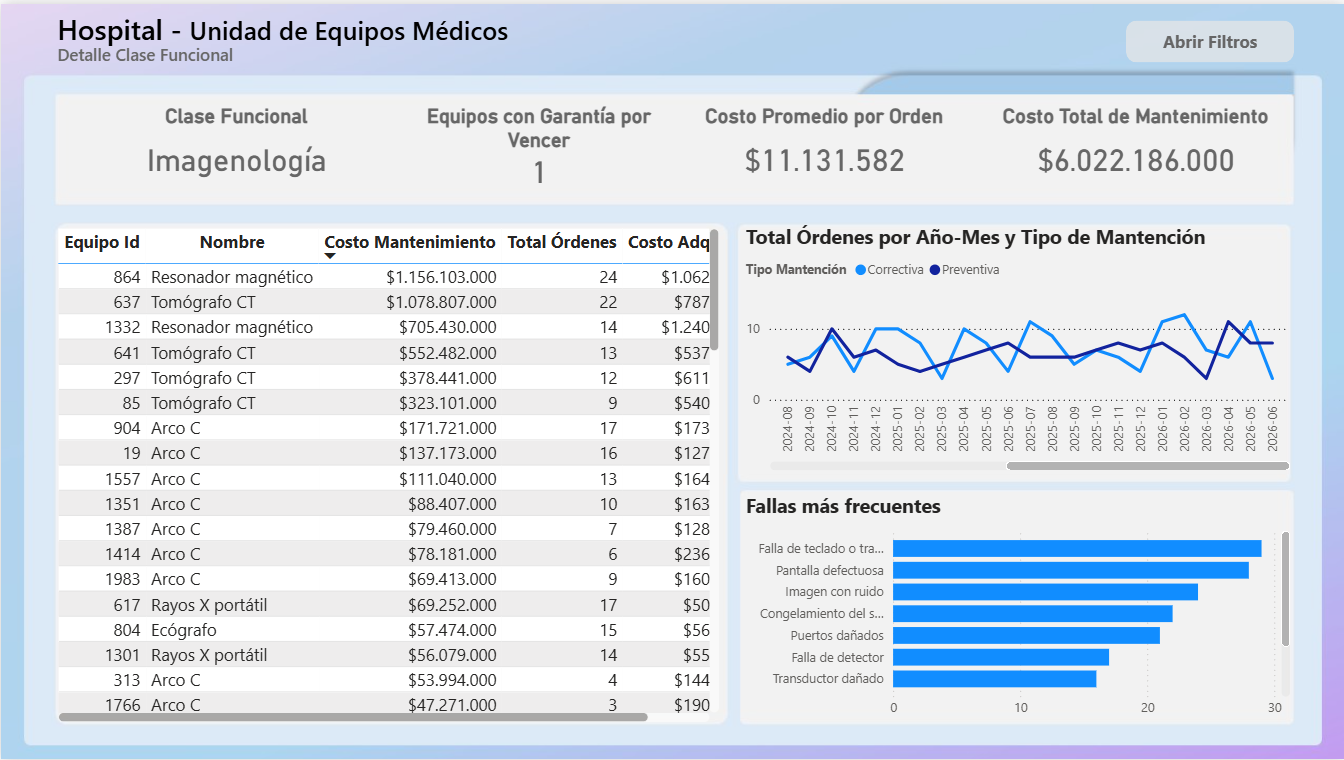

What the dashboard file says about the page in this screenshot:
{"tool":"powerbi","page":{"name":"Detalle Clase Funcional","canvas":[1280,720],"ordinal":3},"visuals":[{"type":"actionButton","title":"Open","box":[1072,16,160,40],"z":1000,"group":"g1"},{"type":"tableEx","fields":{"Values":["dim_equipo.equipo_id","dim_equipo.nombre_equipo","_Medidas.Costo Total Mantenimiento","_Medidas.Total Órdenes","_Medidas.Costo Total Adquisición"]},"box":[48,208,640,480],"z":1000},{"type":"lineChart","title":"Total Órdenes por Año-Mes y Tipo de Mantención","fields":{"Category":["dim_fecha.anio_mes"],"Series":["dim_tipo_mantenimiento.nombre_tipo"],"Y":["_Medidas.Total Órdenes"]},"box":[704,208,528,240],"z":2000},{"type":"card","title":"Costo Total de Mantenimiento","fields":{"Values":["_Medidas.Costo Total Mantenimiento"]},"box":[928,96,304,80],"z":3000},{"type":"card","title":"Equipos con Garantía por Vencer","fields":{"Values":["_Medidas.Equipos Garantía por Vencer"]},"box":[384,96,256,80],"z":4000},{"type":"clusteredBarChart","title":"Fallas más frecuentes","fields":{"Category":["fact_ordenes_trabajo.falla_reportada"],"Y":["_Medidas.Total Órdenes"]},"box":[704,464,528,224],"z":5000},{"type":"card","title":"Clase Funcional","fields":{"Values":["Min(dim_equipo.clase_funcional)"]},"box":[64,96,320,80],"z":6000},{"type":"textbox","box":[48,0,448,48],"z":7000},{"type":"textbox","box":[48,32,304,32],"z":8000},{"type":"card","title":"Costo Promedio por Orden","fields":{"Values":["_Medidas.Costo Promedio por Orden"]},"box":[640,96,288,80],"z":9000},{"type":"group","id":"g1","title":"Buttons","box":[1072,16,160,40],"z":11000}]}

Visuals, with their boxes in screenshot pixels (x1, y1, x2, y2), scaled from the page's 1280x720 canvas onto the 1344x760 screenshot:
"Open" actionButton: <bbox>1126, 17, 1294, 59</bbox>
tableEx - dim_equipo.equipo_id x dim_equipo.nombre_equipo: <bbox>50, 220, 722, 726</bbox>
"Total Órdenes por Año-Mes y Tipo de Mantención" lineChart: <bbox>739, 220, 1294, 473</bbox>
"Costo Total de Mantenimiento" card: <bbox>974, 101, 1294, 186</bbox>
"Equipos con Garantía por Vencer" card: <bbox>403, 101, 672, 186</bbox>
"Fallas más frecuentes" clusteredBarChart: <bbox>739, 490, 1294, 726</bbox>
"Clase Funcional" card: <bbox>67, 101, 403, 186</bbox>
textbox: <bbox>50, 0, 521, 51</bbox>
textbox: <bbox>50, 34, 370, 68</bbox>
"Costo Promedio por Orden" card: <bbox>672, 101, 974, 186</bbox>
"Buttons" group: <bbox>1126, 17, 1294, 59</bbox>
